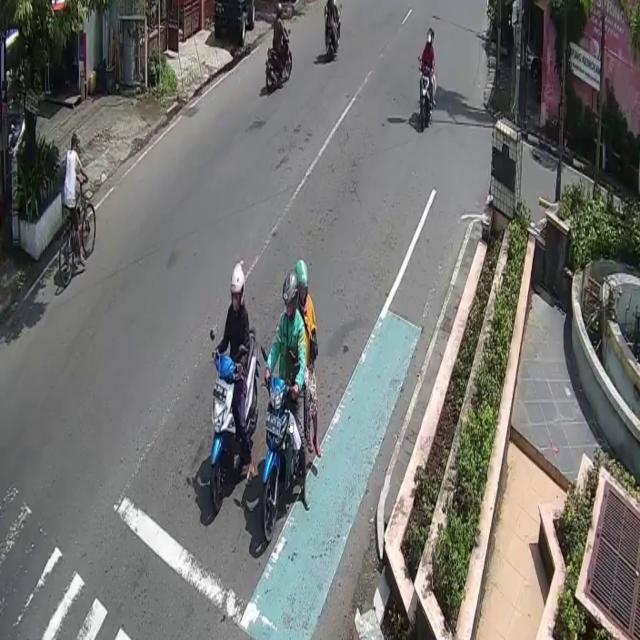motorbike: (210, 324, 259, 514), (260, 371, 312, 548), (266, 26, 292, 94), (323, 3, 345, 58), (419, 66, 432, 130)
